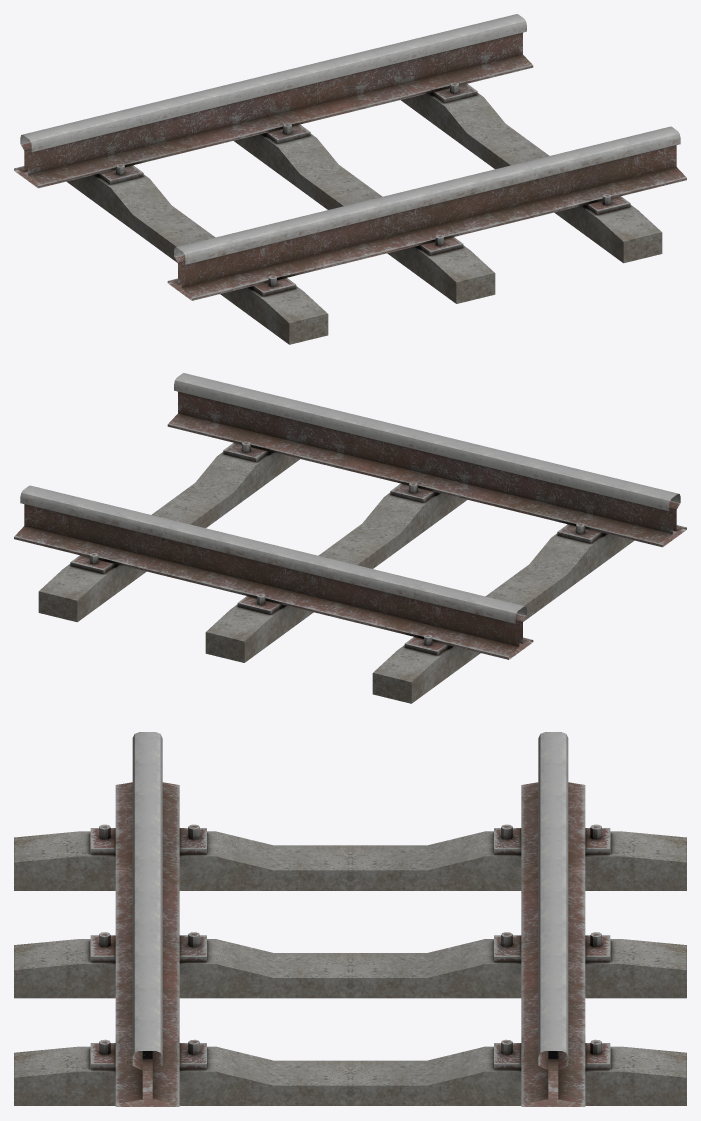
3 views of the same model, one above another, from view 1: azimuth 30°, elevation 25°; view 2: azimuth 150°, elevation 25°; view 3: azimuth 270°, elevation 25° (orthographic). The views are drawn at different scales.
Parts seen in each view (by area): view 1: m_Railway; view 2: m_Railway; view 3: m_Railway.
Part boxes in pixels (x1,y1,x2,y2): m_Railway: [14, 14, 686, 344]; m_Railway: [14, 373, 686, 703]; m_Railway: [14, 732, 686, 1106].
Bounding box in the file's own units: 530 × 74.23 × 473.
